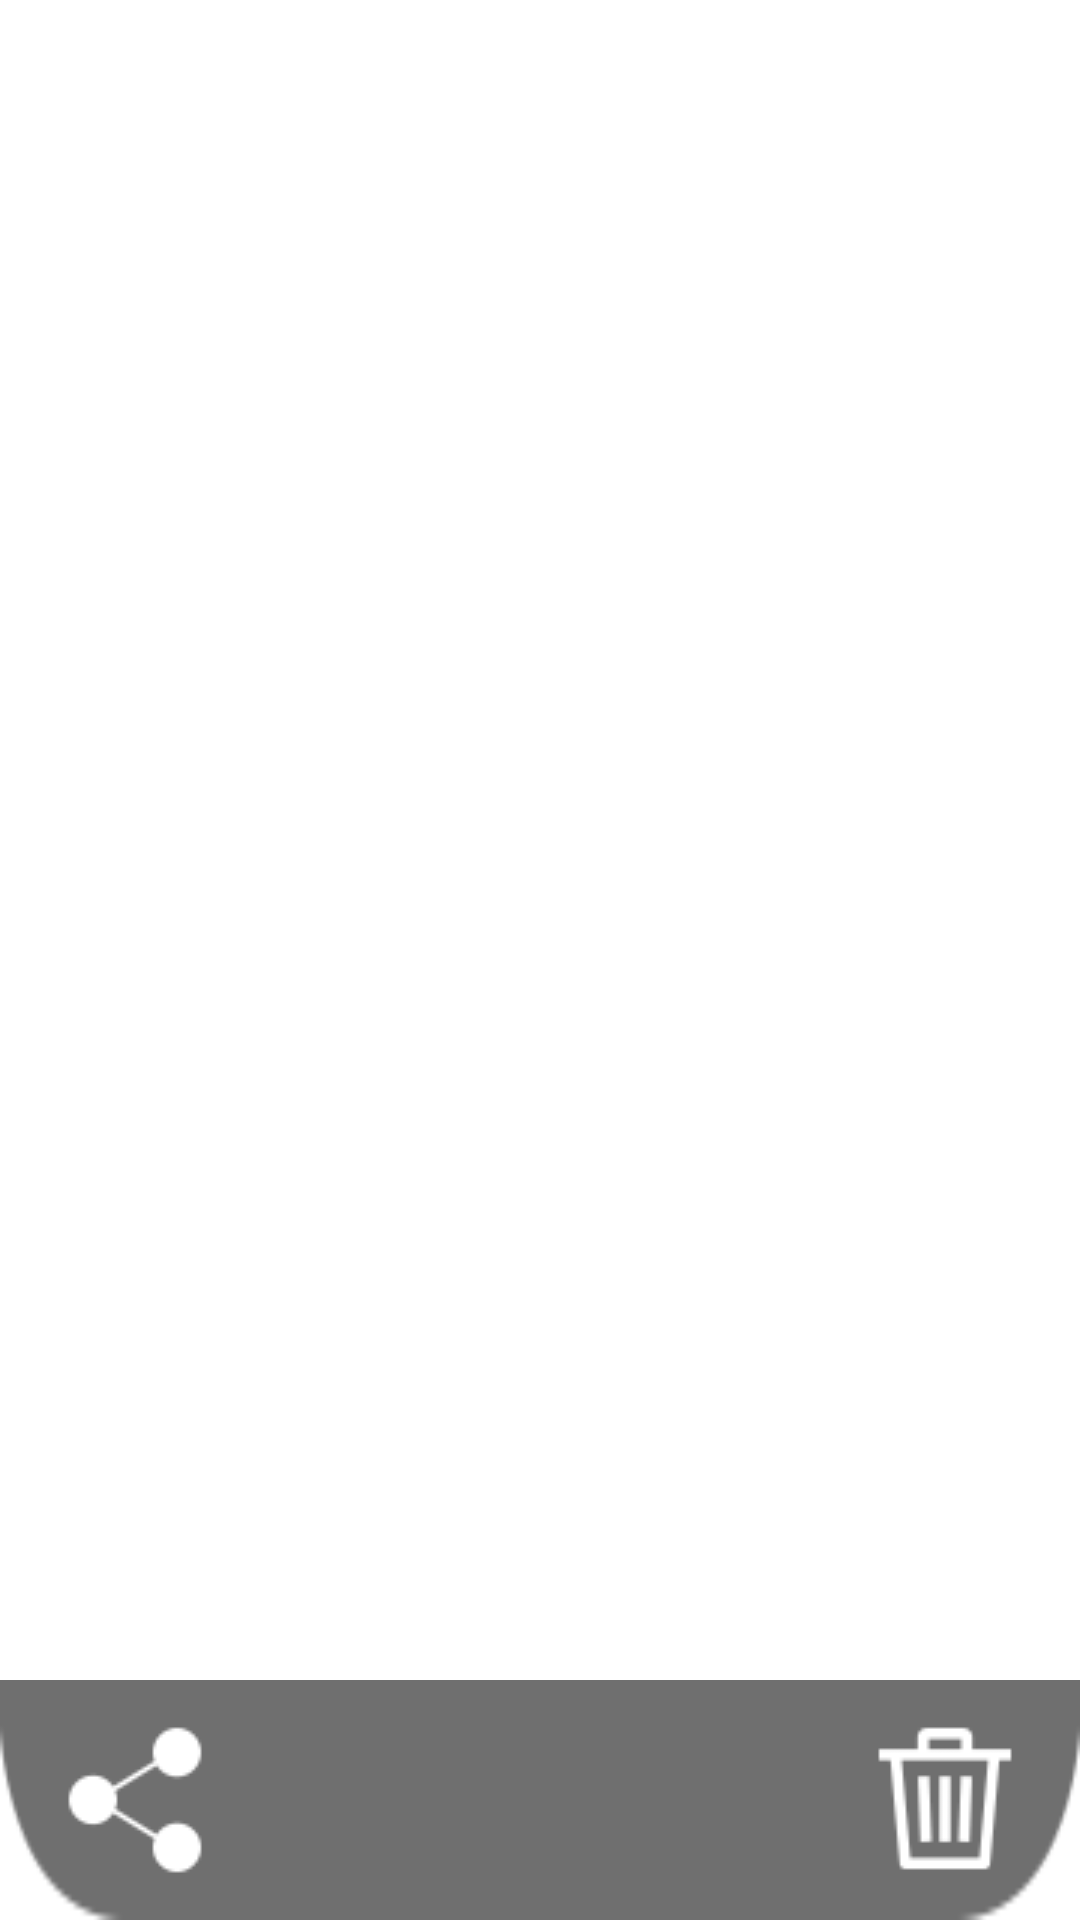

Named icons in this screenshot (1080 x 1920) and their bounding boxes, (x1, y1, x2, y2):
delete: (878, 1727, 1012, 1870)
vshare: (68, 1727, 202, 1873)
